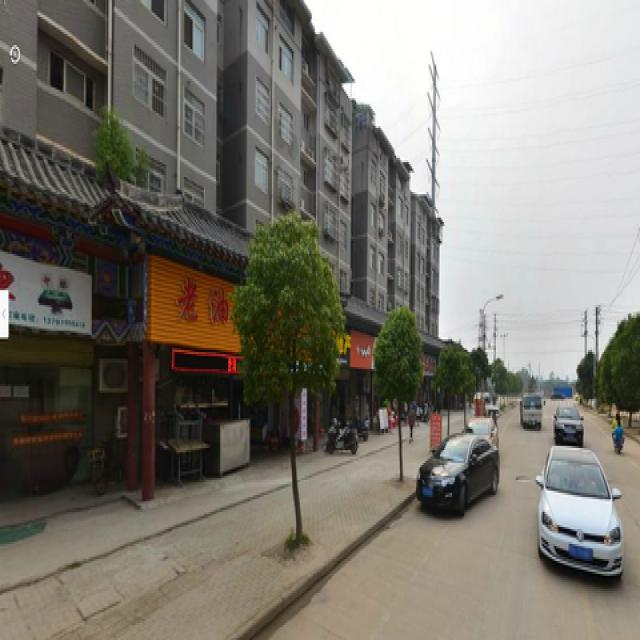cinn: (252, 232, 331, 510), (384, 292, 420, 470)
